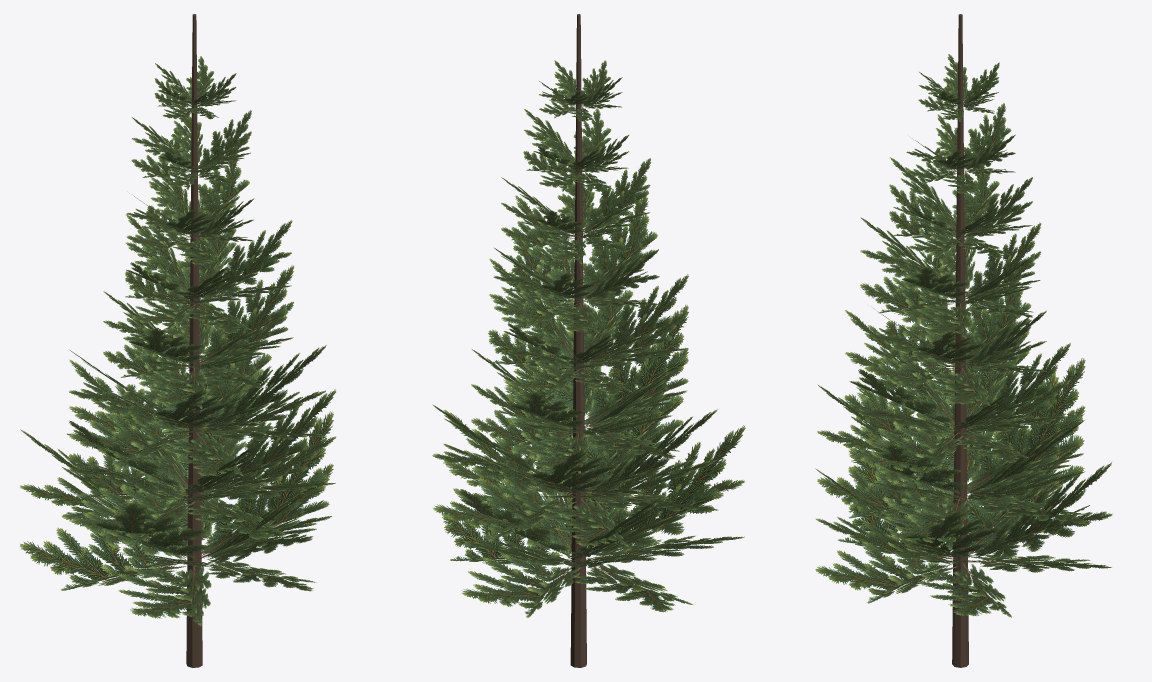
The model's file is pine-3.glb.
3 renders of one model, left to right at view 1: azimuth 30°, elevation 25°; view 2: azimuth 150°, elevation 25°; view 3: azimuth 270°, elevation 25°, orthographic.
Parts seen in each view (by area): view 1: pine-3; view 2: pine-3; view 3: pine-3.
Boxes of the visible parts, <box> form: pine-3: <box>19,14,336,667</box>; pine-3: <box>432,14,745,667</box>; pine-3: <box>815,14,1112,667</box>.
Size of the model in its own units: 10.99 by 22 by 10.73.
Materials: 2 (1 with a texture image).
